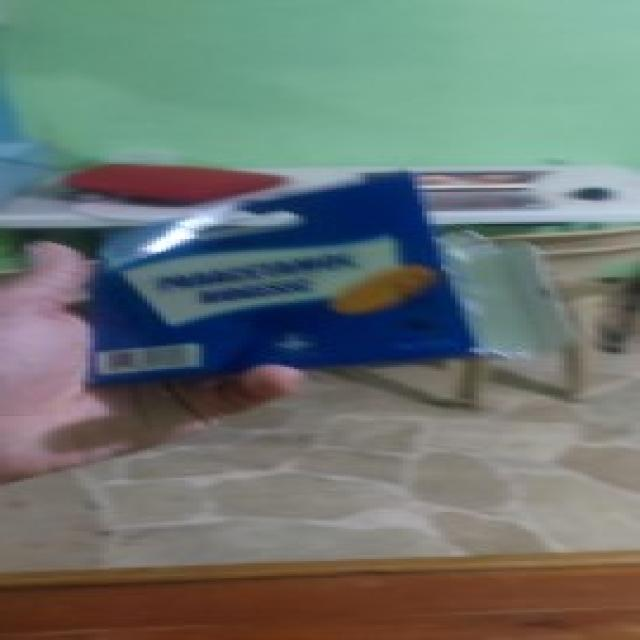Cacat: (83, 174, 571, 385)
Kemasan: (442, 224, 557, 365)
